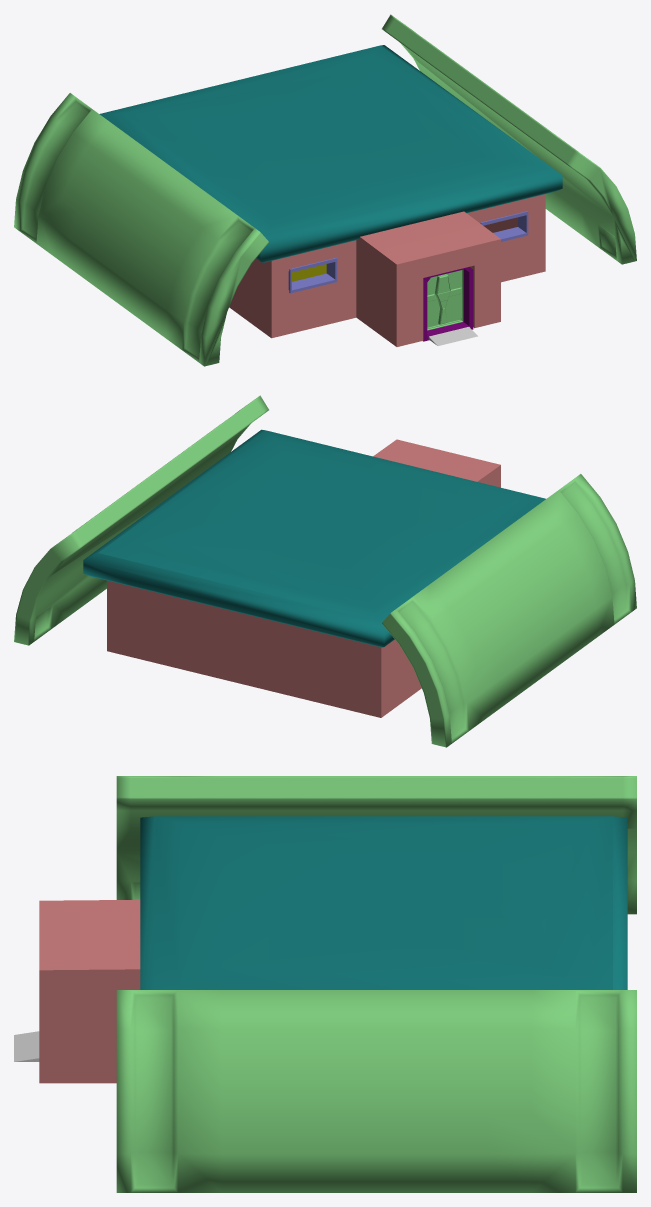
The model's file is sci-fi building 1 collision.fbx.
3 renders of one model, top to bottom at view 1: azimuth 30°, elevation 25°; view 2: azimuth 150°, elevation 25°; view 3: azimuth 270°, elevation 25°, orthographic. The views are drawn at different scales.
Parts seen in each view (by area): view 1: building1-col, door-col; view 2: building1-col; view 3: building1-col.
Part boxes in pixels (x1=…): building1-col: x1=14, y1=14, x2=636, y2=366; door-col: x1=427, y1=270, x2=463, y2=330; building1-col: x1=14, y1=395, x2=636, y2=747; building1-col: x1=14, y1=776, x2=636, y2=1192.
Size of the model in its own units: 722 by 195 by 658.
